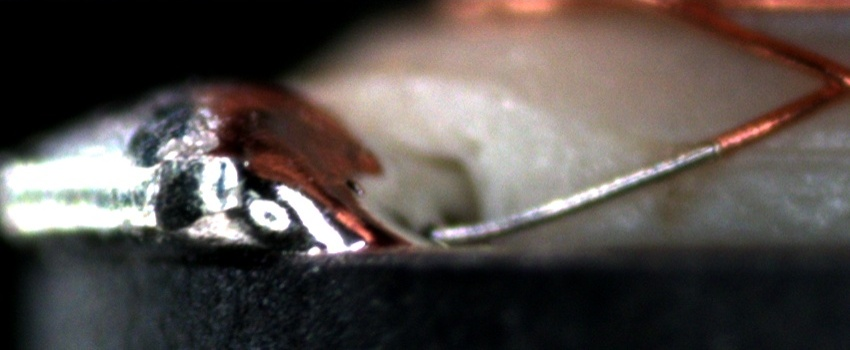CL: (798, 54, 850, 113)
DL: (733, 127, 849, 180)
TS: (434, 139, 721, 245)
